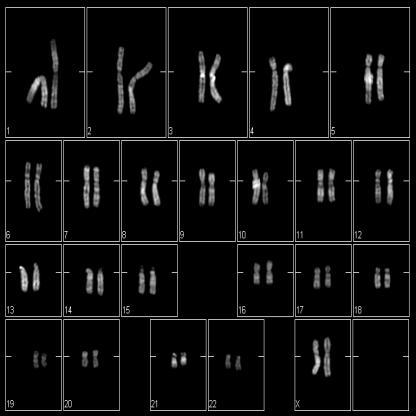1: (26, 74, 48, 110), (50, 38, 61, 110)
10: (250, 166, 262, 206), (260, 171, 270, 207)
11: (327, 166, 338, 205), (315, 166, 326, 203)
12: (385, 168, 396, 208), (372, 168, 383, 207)
13: (30, 262, 40, 292), (18, 263, 28, 292)
14: (94, 264, 106, 296), (84, 266, 95, 296)
15: (147, 266, 158, 298), (137, 264, 147, 296)
16: (265, 259, 274, 288), (251, 262, 262, 284)
17: (312, 264, 322, 289), (323, 262, 332, 288)
18: (374, 264, 382, 290), (384, 264, 392, 290)
19: (32, 347, 40, 370), (40, 350, 48, 370)
2: (128, 59, 154, 114), (116, 42, 126, 114)
20: (90, 348, 100, 372), (81, 347, 89, 369)
21: (178, 350, 188, 368), (170, 350, 178, 372)
22: (223, 352, 231, 372), (235, 352, 242, 370)
3: (209, 52, 224, 104), (198, 48, 208, 106)
4: (266, 52, 281, 112), (282, 61, 294, 107)
5: (363, 52, 375, 106), (377, 52, 386, 104)
6: (22, 158, 32, 211), (34, 162, 44, 214)
7: (92, 164, 100, 209), (84, 164, 90, 210)
8: (151, 170, 163, 209), (140, 165, 150, 209)
9: (196, 166, 208, 208), (206, 170, 216, 208)
X: (322, 335, 333, 380), (311, 336, 321, 378)
